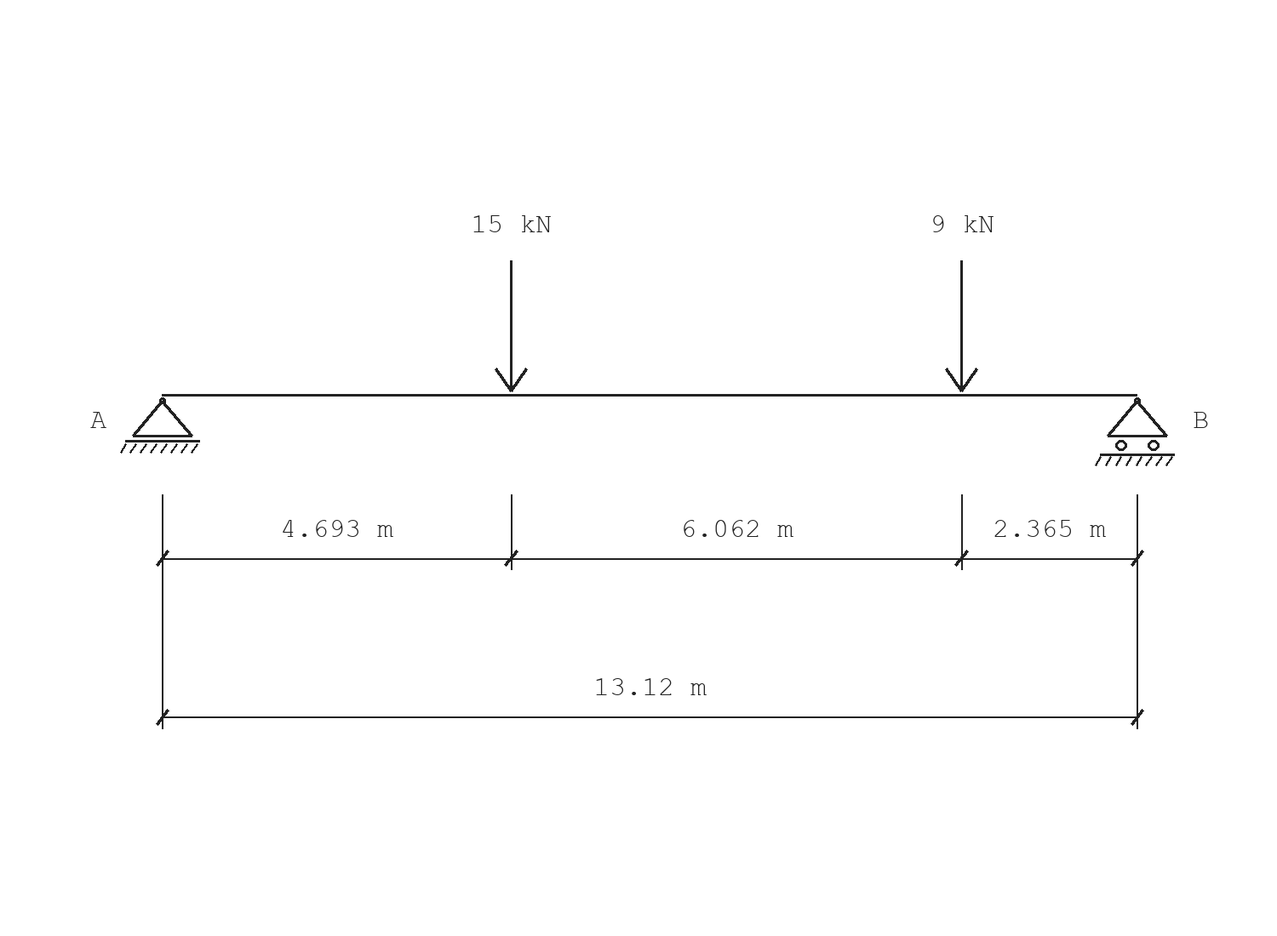pin_support: (120, 397, 200, 454)
point_load: (495, 260, 528, 392), (945, 260, 978, 392)
roller_support: (1095, 397, 1175, 466)
